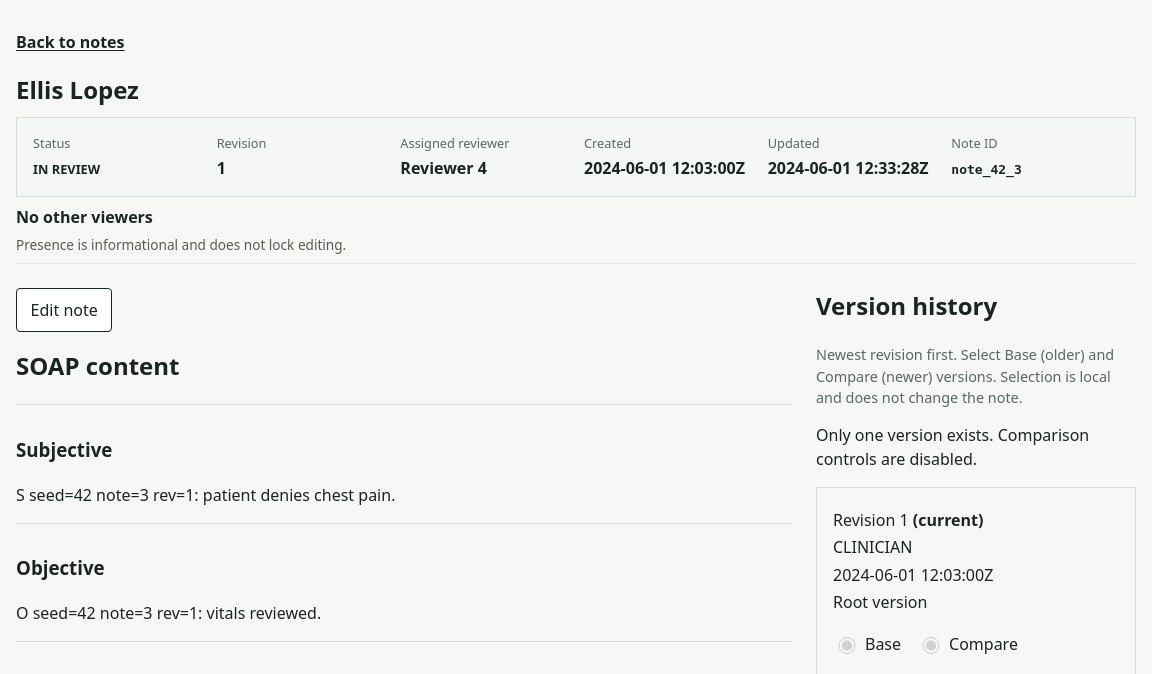
SoapEditor UI › 80–89: accessibility labels and non-assertive dirty summary
Expected: the heading "SOAP content" is shown, [16,349,180,382]
Click the button "Edit note". click: [64, 310]
box: [16,288,112,332]
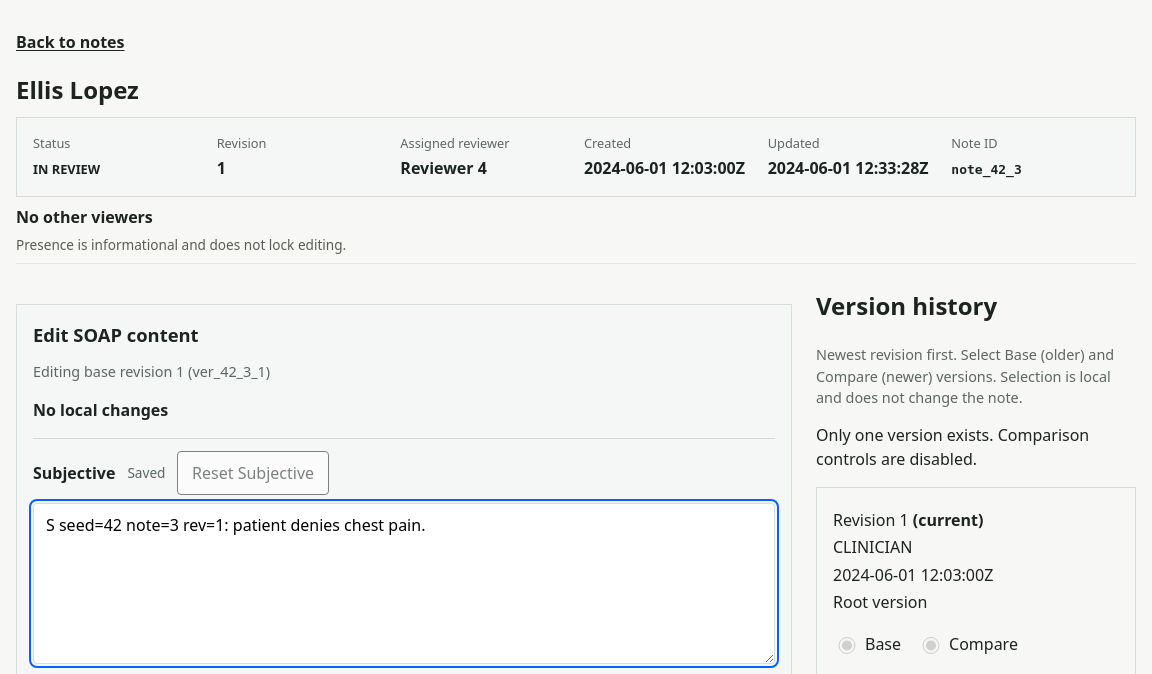
Result: the text box labelled "Subjective" is shown
Result: the button with aria-label "Reset Subjective to saved content" is disabled at [177,451,329,495]
Replace the text in the text box labelled "Subjective" with "a". click: [404, 584]
box: [33,503,775,664]
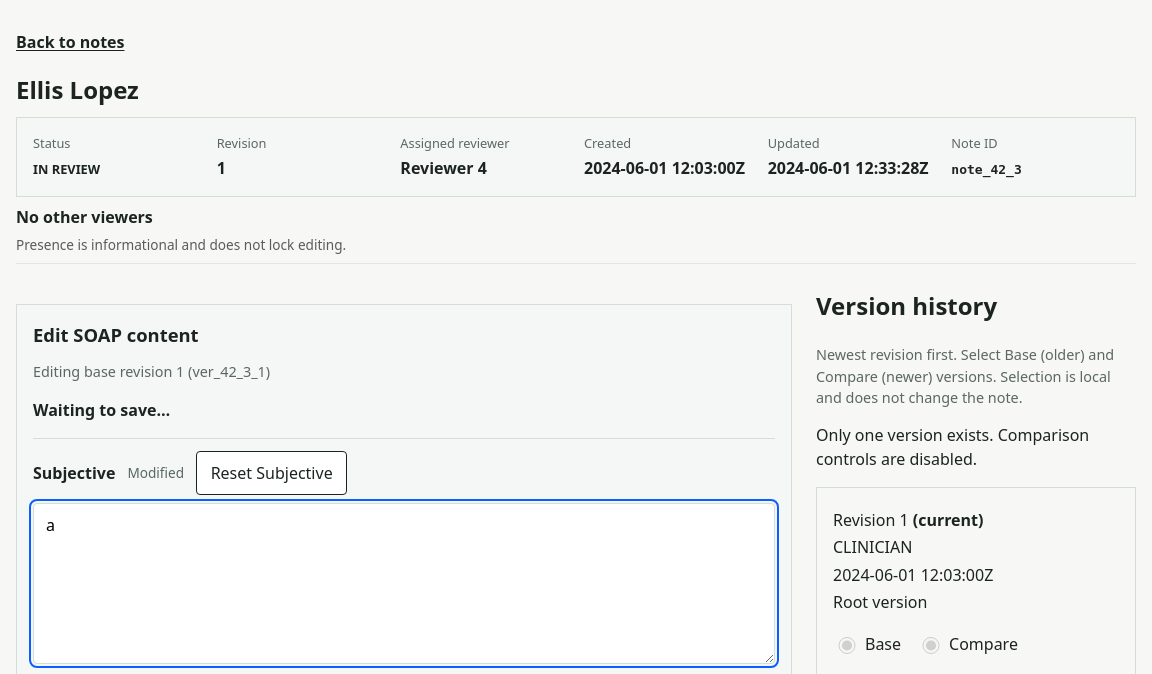
Result: the text with id "soap-editor-subjective-status" reads "Modified" at [127,463,184,482]
